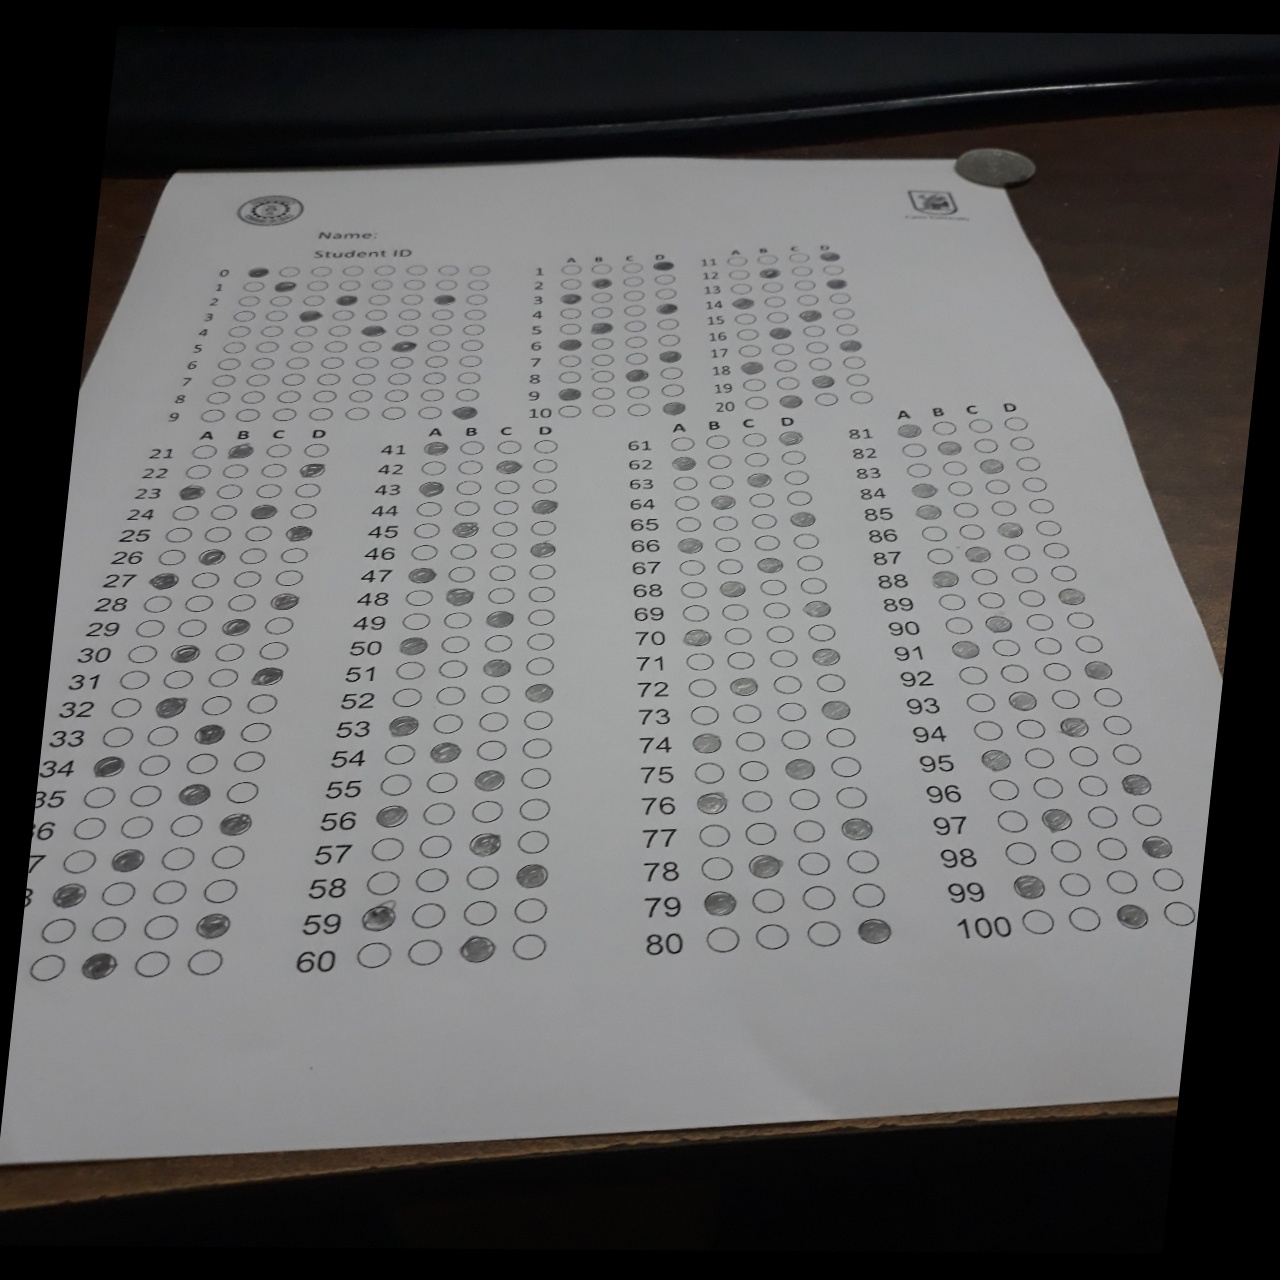not-c: (132, 949, 173, 978), (355, 941, 396, 968), (404, 938, 445, 965), (508, 933, 549, 960), (139, 914, 181, 941), (185, 948, 227, 974), (28, 953, 67, 981), (158, 843, 197, 871), (72, 813, 110, 842), (89, 915, 129, 942), (200, 877, 240, 904), (207, 843, 247, 870), (753, 922, 791, 949), (849, 881, 887, 908), (843, 847, 881, 874), (699, 855, 737, 881), (40, 917, 79, 944), (98, 879, 137, 906), (60, 847, 98, 874), (749, 887, 787, 914), (742, 821, 779, 847), (365, 869, 402, 896), (150, 878, 188, 905), (794, 850, 832, 876), (789, 817, 828, 843), (411, 867, 451, 892), (459, 900, 499, 925), (223, 779, 263, 804), (236, 720, 275, 744), (805, 920, 843, 946), (799, 884, 837, 910), (696, 822, 734, 847), (785, 787, 823, 812), (833, 783, 871, 809), (511, 897, 549, 922), (703, 926, 742, 951), (515, 830, 553, 855), (516, 796, 554, 821), (135, 753, 173, 777), (738, 788, 775, 813), (182, 751, 222, 775), (464, 865, 502, 890), (409, 903, 447, 927), (1065, 905, 1101, 931), (370, 836, 406, 862), (168, 813, 206, 837), (125, 784, 164, 808), (81, 785, 120, 809), (230, 749, 268, 772), (1160, 900, 1197, 925), (118, 815, 156, 838), (144, 723, 182, 747), (1021, 908, 1055, 934), (421, 801, 456, 825), (100, 726, 138, 748), (1048, 838, 1084, 862), (1103, 869, 1139, 892), (377, 772, 411, 797), (109, 696, 147, 719), (159, 668, 197, 690), (1002, 840, 1037, 864), (778, 727, 813, 750), (206, 666, 241, 689), (736, 760, 772, 782), (828, 754, 864, 776), (728, 703, 764, 726), (774, 700, 810, 722), (244, 692, 280, 714), (117, 668, 154, 690), (995, 809, 1029, 832), (1057, 872, 1091, 896), (692, 761, 726, 784), (418, 835, 452, 858), (1150, 867, 1185, 890), (823, 726, 858, 748), (731, 729, 767, 751), (687, 703, 722, 726), (769, 673, 804, 695), (469, 799, 504, 822), (199, 694, 234, 716), (1085, 805, 1119, 828), (1130, 803, 1162, 826), (1095, 837, 1126, 860), (1032, 775, 1064, 797), (383, 743, 416, 765), (987, 778, 1021, 799), (813, 670, 847, 692), (476, 710, 510, 731), (519, 737, 553, 758), (520, 767, 552, 789), (1077, 775, 1110, 796), (763, 622, 796, 644), (425, 772, 458, 794), (263, 615, 295, 636), (134, 617, 166, 638), (141, 593, 173, 614), (685, 678, 719, 697), (430, 713, 464, 733), (520, 710, 554, 730), (125, 644, 159, 663), (181, 592, 215, 612), (1111, 743, 1143, 764), (768, 647, 799, 668), (722, 624, 754, 645), (964, 692, 996, 712), (972, 720, 1005, 740), (1013, 719, 1046, 738), (1049, 689, 1082, 709), (1101, 714, 1133, 734), (726, 649, 758, 669), (683, 651, 716, 670), (523, 631, 556, 651), (522, 655, 554, 675), (478, 685, 511, 704), (476, 740, 509, 760), (212, 642, 245, 662), (257, 640, 290, 660), (176, 617, 209, 636), (225, 591, 258, 611), (1023, 747, 1054, 768), (440, 634, 474, 653), (434, 686, 468, 704), (1091, 686, 1123, 706), (1068, 745, 1099, 765), (805, 622, 837, 642), (209, 502, 240, 522), (390, 688, 425, 706), (956, 665, 989, 683), (436, 659, 469, 678), (394, 660, 427, 679), (232, 568, 263, 588), (288, 501, 319, 520), (1023, 612, 1055, 631), (1032, 635, 1063, 654), (1074, 633, 1105, 652), (1041, 661, 1073, 680), (680, 602, 712, 621), (678, 580, 709, 599), (673, 515, 704, 533), (189, 570, 220, 588), (482, 633, 515, 651), (990, 638, 1021, 656), (999, 663, 1029, 682), (720, 602, 750, 621), (758, 577, 789, 595), (795, 553, 825, 572), (238, 547, 268, 566), (155, 549, 185, 567), (202, 524, 232, 543), (244, 523, 274, 542), (975, 590, 1007, 607), (942, 617, 974, 634), (278, 546, 309, 564), (1017, 588, 1047, 607), (715, 557, 744, 576), (798, 577, 828, 595), (673, 493, 702, 512), (274, 568, 304, 587), (1008, 565, 1039, 583), (937, 592, 967, 610), (1063, 611, 1094, 628), (761, 600, 791, 618), (448, 543, 478, 560), (445, 565, 476, 583), (163, 525, 193, 543), (678, 557, 706, 576), (792, 531, 821, 550), (782, 468, 810, 486), (971, 567, 1000, 585), (753, 532, 782, 550), (713, 535, 742, 552), (784, 489, 813, 506), (670, 474, 700, 491), (442, 611, 471, 628), (170, 503, 199, 520), (489, 520, 520, 536), (1040, 542, 1069, 558), (1049, 565, 1078, 581), (707, 474, 736, 490), (414, 501, 443, 517), (409, 544, 438, 560), (489, 542, 518, 558), (486, 587, 516, 604), (527, 585, 557, 601), (403, 588, 433, 605), (402, 613, 431, 629), (184, 464, 213, 481), (952, 501, 979, 518), (779, 448, 806, 465), (940, 459, 968, 476), (1014, 455, 1042, 471), (956, 523, 985, 539), (920, 525, 948, 542), (747, 491, 775, 508), (742, 451, 770, 468), (668, 435, 696, 451), (411, 522, 440, 538), (527, 563, 556, 579), (486, 565, 515, 581), (526, 608, 554, 625), (216, 482, 244, 498), (294, 481, 322, 497), (301, 442, 329, 458), (454, 479, 483, 495), (529, 519, 558, 535), (189, 444, 218, 459), (1028, 497, 1055, 513), (1005, 543, 1032, 559), (712, 515, 738, 531), (420, 459, 447, 476), (222, 463, 248, 479), (904, 462, 932, 477), (1021, 477, 1049, 492), (983, 478, 1012, 493), (946, 481, 974, 496), (1035, 519, 1063, 535), (750, 513, 778, 529), (706, 454, 734, 469), (456, 458, 484, 474), (531, 458, 559, 474), (492, 499, 520, 515), (452, 501, 481, 516), (259, 462, 287, 477), (265, 442, 293, 457), (495, 440, 524, 454), (590, 384, 617, 400), (930, 420, 956, 435), (704, 433, 731, 448), (459, 440, 486, 455), (530, 478, 557, 493), (256, 483, 282, 498), (416, 406, 444, 420), (925, 549, 953, 563), (531, 438, 559, 452), (967, 417, 993, 433), (1009, 435, 1035, 450), (973, 437, 999, 452), (901, 443, 927, 458), (990, 501, 1017, 515), (741, 433, 768, 447), (493, 479, 520, 493), (591, 403, 615, 418), (1003, 415, 1028, 430), (383, 388, 409, 402), (236, 408, 261, 422), (200, 408, 226, 422), (625, 384, 651, 399), (659, 383, 685, 397), (840, 355, 866, 369), (813, 392, 839, 406), (847, 389, 873, 403), (345, 407, 372, 420), (275, 390, 302, 403), (271, 408, 298, 421), (556, 404, 580, 418), (626, 403, 651, 417), (624, 350, 648, 365), (658, 333, 682, 347), (742, 377, 767, 392), (845, 372, 870, 386), (467, 264, 492, 277), (421, 372, 447, 384), (381, 406, 407, 418), (348, 389, 374, 402), (312, 389, 338, 402), (239, 390, 265, 403), (744, 395, 770, 408), (436, 263, 461, 275), (467, 278, 491, 291), (455, 388, 479, 401), (265, 309, 290, 322), (245, 373, 270, 386), (285, 356, 309, 369), (281, 372, 306, 384), (320, 356, 345, 369), (387, 372, 411, 384), (390, 356, 415, 369), (425, 354, 450, 367), (590, 338, 614, 350), (624, 335, 648, 348), (656, 316, 681, 329), (591, 305, 615, 318), (802, 324, 826, 336), (775, 376, 799, 389), (738, 343, 761, 358), (462, 324, 485, 336), (459, 338, 483, 350), (429, 324, 452, 336), (399, 308, 422, 321), (400, 293, 423, 306), (227, 325, 251, 338), (328, 324, 352, 336), (216, 358, 241, 369), (250, 358, 275, 369), (316, 373, 342, 384), (350, 373, 376, 384), (307, 407, 333, 418), (206, 392, 232, 403), (558, 370, 581, 383), (558, 354, 581, 367), (591, 353, 614, 366), (624, 304, 647, 316), (622, 290, 646, 302), (835, 324, 858, 336), (765, 311, 789, 324), (735, 328, 758, 341), (772, 359, 796, 372), (435, 278, 459, 290), (365, 308, 389, 320), (339, 279, 363, 291), (306, 279, 331, 291), (302, 294, 327, 306), (270, 294, 294, 306), (232, 309, 257, 321), (324, 340, 348, 352), (290, 340, 314, 352), (223, 340, 247, 352), (211, 374, 236, 386), (355, 356, 380, 368), (427, 339, 451, 350), (659, 367, 683, 379), (590, 369, 614, 381), (624, 320, 648, 332), (558, 322, 583, 334), (588, 291, 613, 302), (396, 324, 418, 336), (374, 263, 396, 275), (808, 358, 830, 370), (457, 372, 481, 383), (370, 278, 394, 290), (368, 293, 392, 305), (341, 265, 365, 277), (260, 325, 284, 336), (294, 324, 318, 335), (559, 307, 583, 319), (805, 340, 829, 352), (277, 266, 302, 277), (358, 341, 383, 352), (464, 308, 486, 320), (459, 355, 482, 367), (431, 308, 454, 320), (403, 278, 425, 290), (655, 288, 678, 300), (654, 273, 676, 285), (591, 263, 613, 274), (788, 251, 810, 263), (729, 282, 751, 294), (796, 293, 818, 305), (822, 263, 844, 274), (829, 291, 851, 302), (832, 307, 855, 319), (734, 312, 756, 324), (771, 343, 794, 355), (332, 309, 356, 320), (243, 281, 267, 292), (238, 295, 263, 306), (256, 341, 280, 352), (420, 389, 444, 400), (406, 264, 427, 275), (309, 265, 333, 275), (561, 278, 583, 290), (755, 253, 778, 264), (790, 265, 813, 275), (761, 281, 784, 292), (467, 293, 489, 304), (622, 275, 645, 286), (560, 264, 583, 274), (621, 263, 644, 273), (726, 256, 748, 266), (728, 268, 750, 279), (762, 297, 787, 306), (794, 280, 816, 290)
taken-c: (458, 935, 497, 964), (360, 903, 399, 931), (79, 952, 117, 980), (108, 845, 147, 873), (90, 751, 129, 779), (190, 721, 229, 749), (50, 881, 90, 908), (175, 781, 215, 808), (193, 912, 231, 940), (217, 810, 256, 837), (512, 862, 550, 888), (1112, 903, 1151, 928), (701, 888, 738, 914), (855, 917, 892, 942), (1138, 833, 1176, 859), (1039, 806, 1076, 832), (1117, 770, 1155, 796), (976, 745, 1014, 771), (1010, 872, 1047, 898), (372, 804, 411, 828), (250, 663, 287, 688), (465, 832, 503, 856), (154, 695, 190, 719), (1056, 715, 1092, 738), (386, 714, 421, 737), (1080, 658, 1115, 681), (745, 855, 782, 877), (1005, 689, 1041, 712), (949, 636, 982, 661), (428, 740, 462, 763), (694, 791, 728, 815), (819, 697, 852, 721), (474, 769, 508, 791), (689, 730, 723, 753), (782, 757, 816, 779), (840, 818, 873, 840), (268, 591, 302, 612), (168, 642, 200, 663), (222, 617, 253, 638), (983, 613, 1015, 634), (1055, 585, 1087, 606), (482, 610, 515, 629), (147, 571, 179, 591), (406, 565, 440, 584), (397, 635, 429, 655), (481, 658, 512, 678), (522, 683, 554, 702), (930, 570, 960, 590), (995, 520, 1026, 540), (443, 587, 475, 606), (196, 547, 227, 566), (964, 543, 993, 563), (801, 598, 831, 617), (298, 459, 328, 477), (788, 510, 818, 527), (248, 503, 280, 519), (682, 627, 712, 645), (811, 647, 840, 665), (728, 678, 757, 695), (176, 484, 206, 501), (284, 525, 314, 542), (225, 442, 256, 458), (755, 556, 785, 572), (716, 580, 747, 597), (908, 482, 939, 498), (978, 457, 1006, 475), (416, 481, 445, 497), (493, 458, 523, 475), (913, 504, 942, 520), (935, 438, 965, 455), (894, 422, 924, 438), (452, 520, 481, 537), (530, 499, 559, 515), (776, 429, 803, 445), (527, 540, 556, 556), (670, 455, 697, 470), (710, 493, 737, 509), (676, 538, 703, 553), (423, 440, 450, 454), (556, 387, 583, 401), (660, 401, 687, 415), (624, 368, 651, 382), (745, 472, 772, 486), (451, 406, 479, 418), (658, 349, 683, 363), (245, 265, 272, 278), (588, 275, 615, 288), (810, 374, 835, 388), (361, 324, 387, 336), (588, 321, 614, 334), (738, 360, 762, 374), (778, 394, 802, 408), (559, 338, 584, 350), (837, 339, 862, 352), (298, 309, 324, 321), (431, 292, 457, 304), (559, 292, 585, 304), (730, 297, 754, 309), (818, 248, 842, 261), (824, 277, 847, 290), (392, 340, 418, 350), (767, 327, 790, 339), (334, 295, 360, 306), (798, 309, 821, 321), (273, 281, 298, 292), (654, 302, 679, 313), (757, 267, 781, 278), (652, 260, 678, 268)
